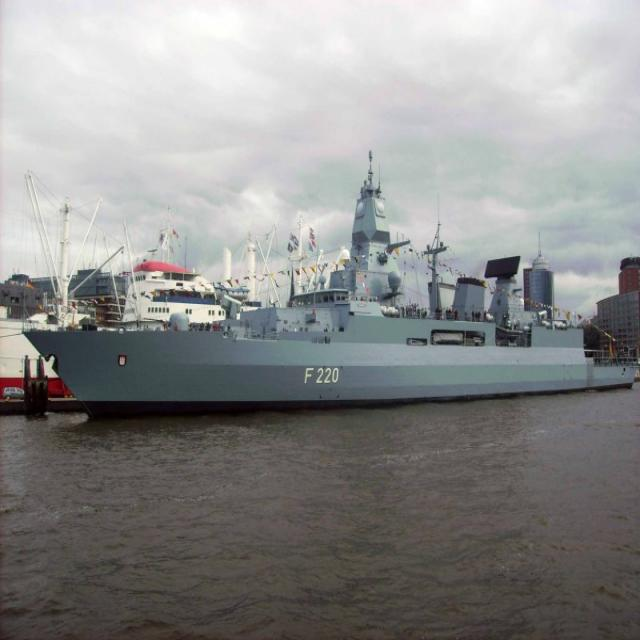Fragata: (20, 146, 640, 428)
